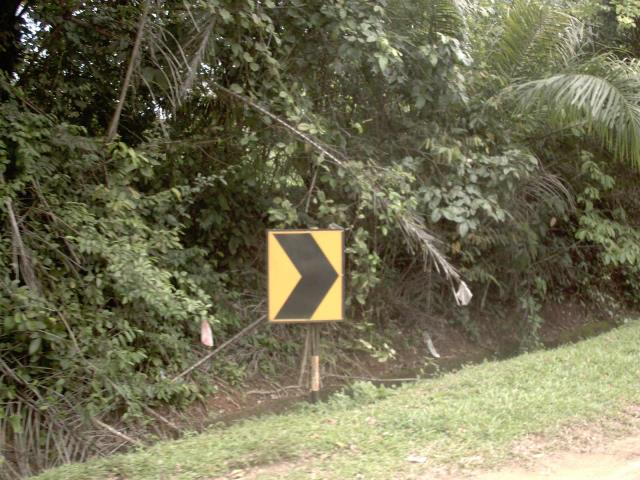traffic_sign: (255, 213, 355, 335)
